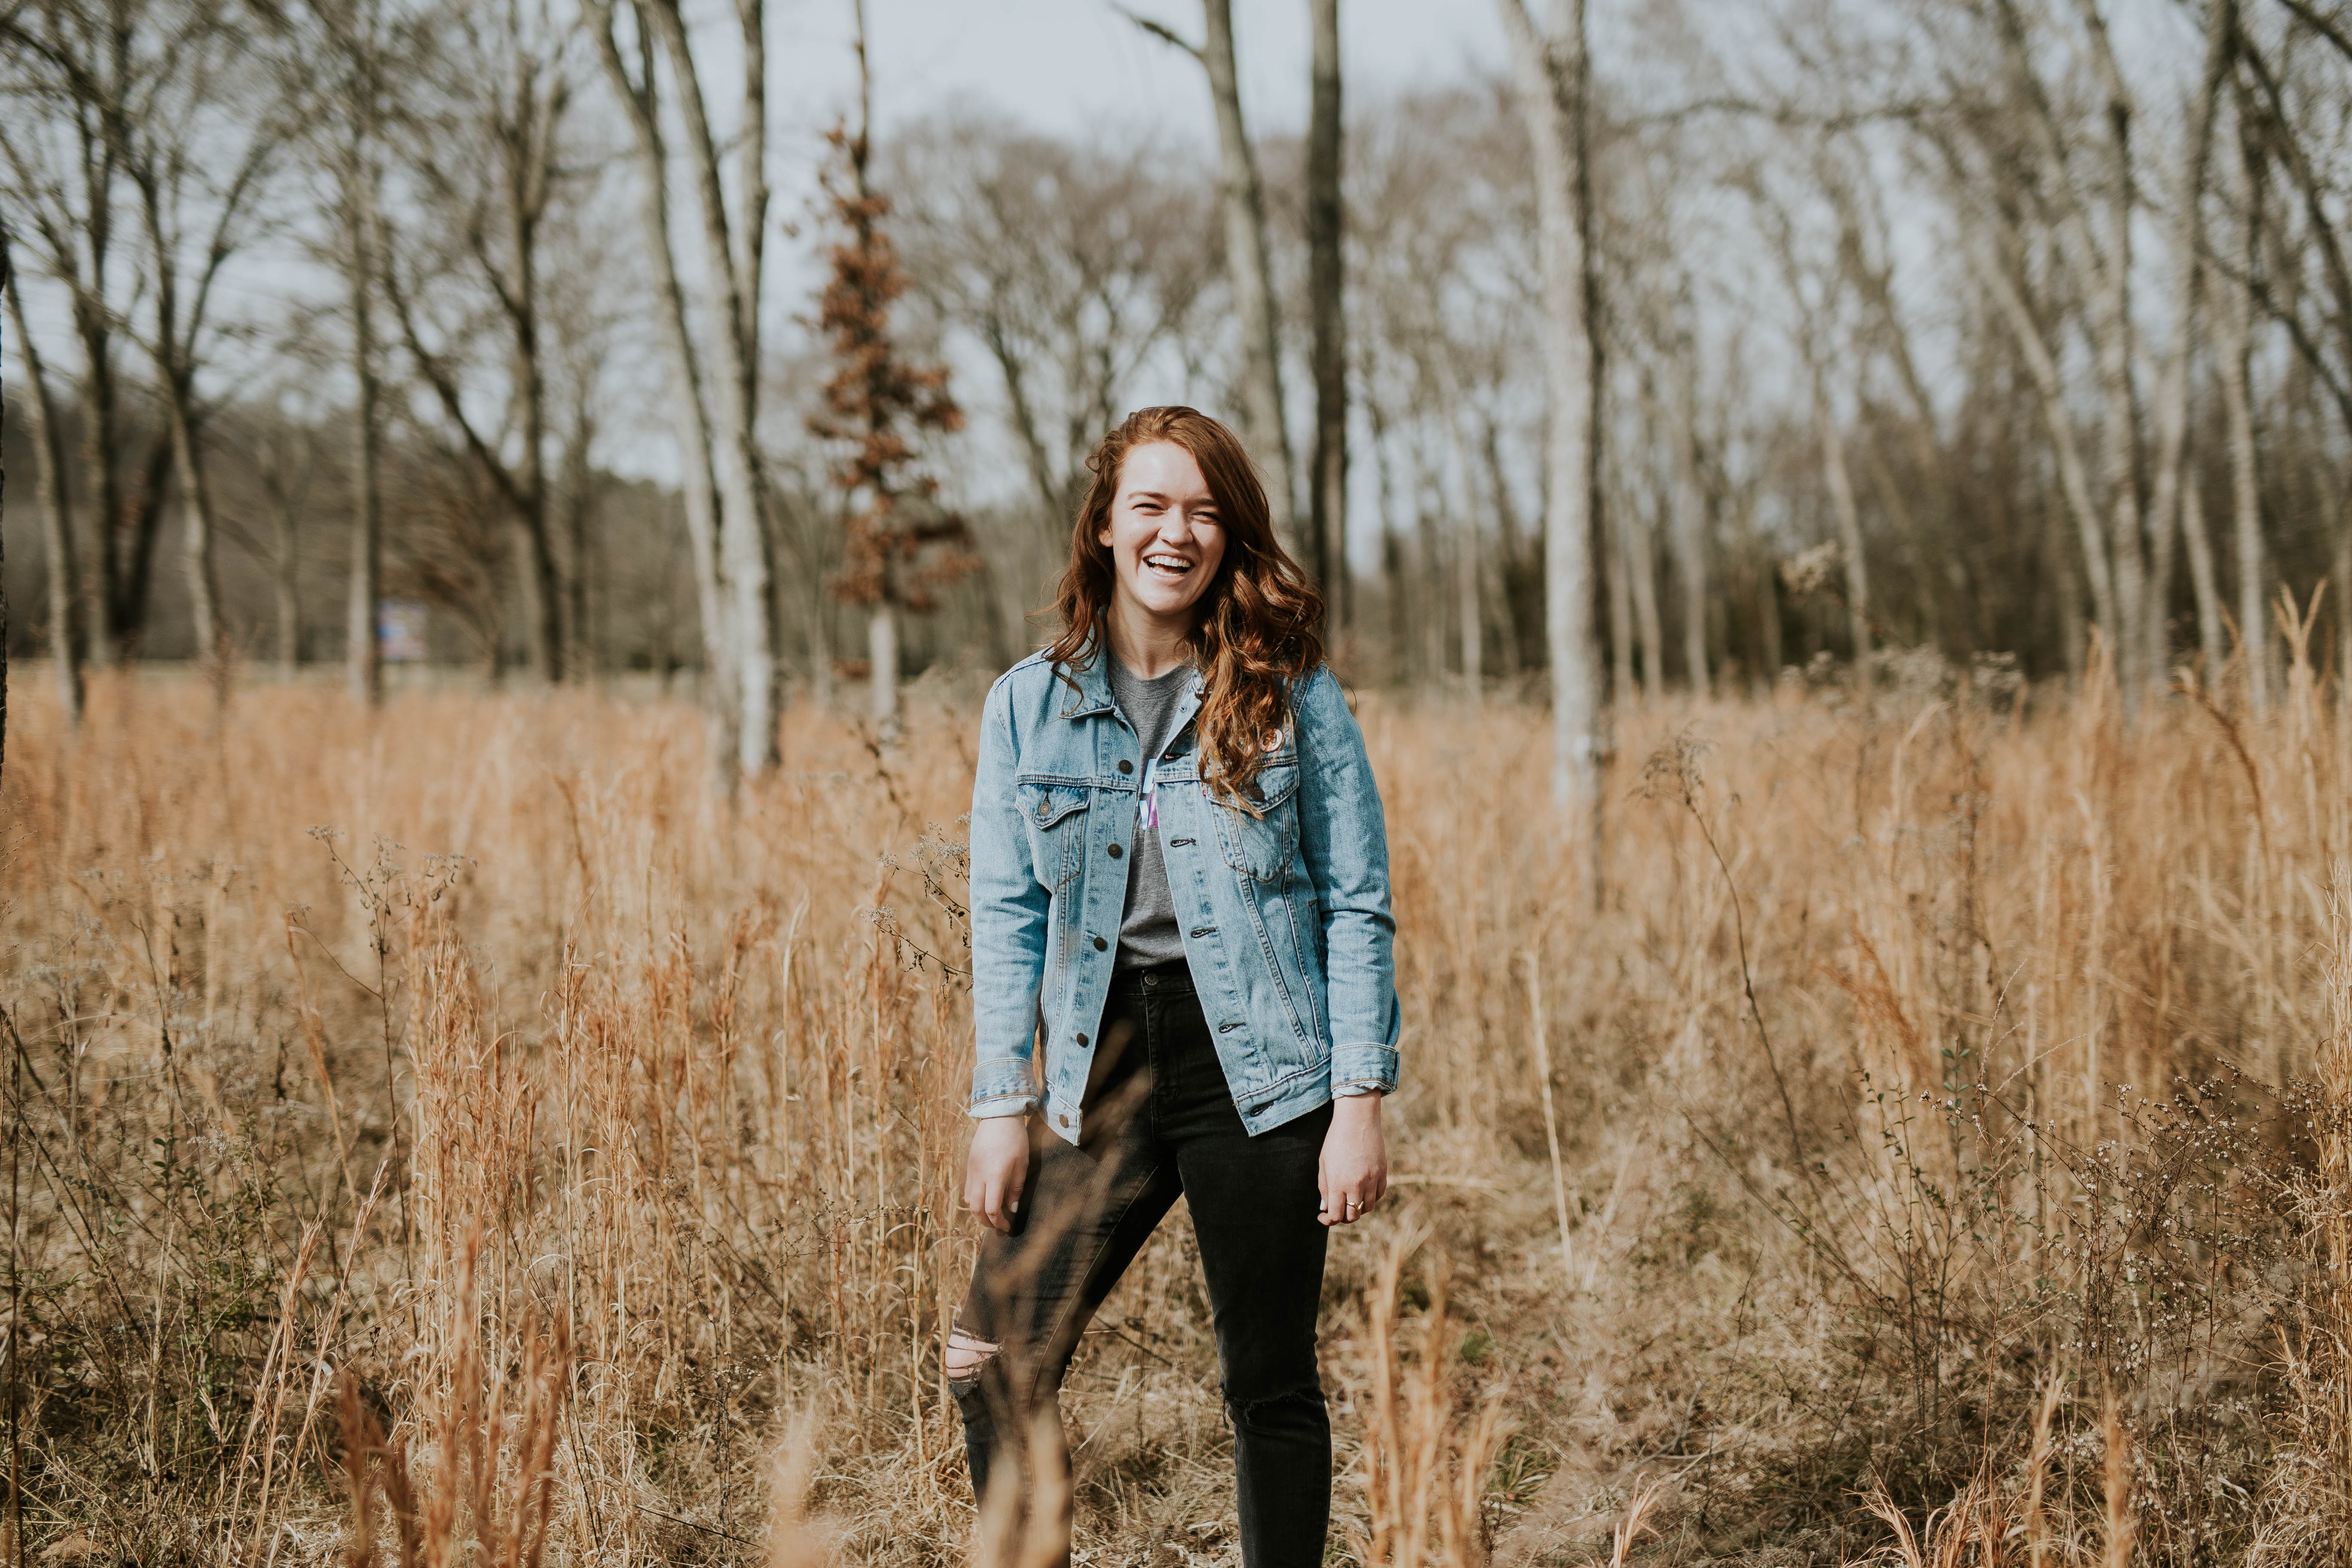person: (934, 401, 1409, 1562)
